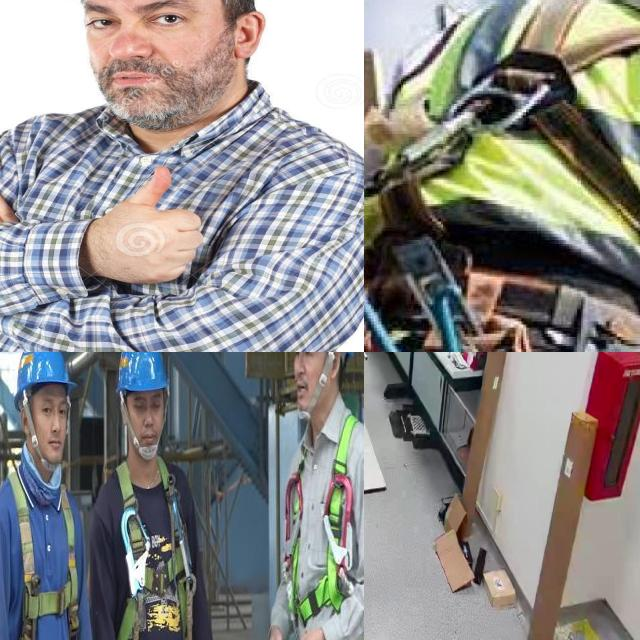Harness: (367, 0, 640, 352), (281, 412, 364, 640), (108, 458, 202, 640), (0, 467, 89, 640)
No_Ear-Protection: (220, 3, 271, 69)
No_Glasses: (78, 0, 209, 49), (37, 396, 75, 421), (131, 396, 166, 418), (292, 352, 318, 364)
